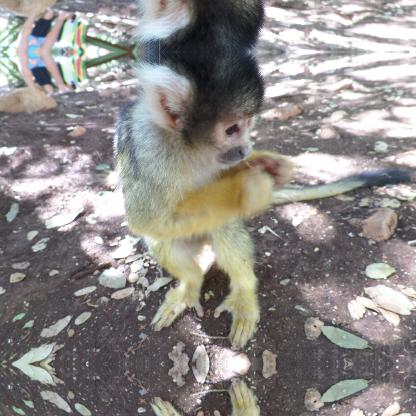Monkey: (115, 52, 415, 348)
